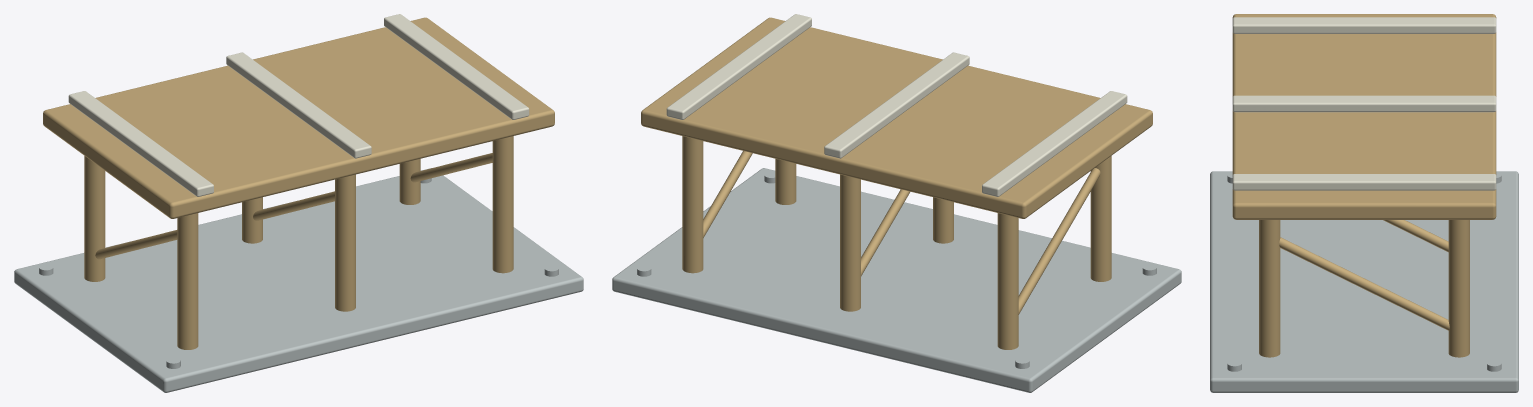
File: abandoned-tidal-model-testing-hall-pile-jetty-model-585b1f6a__32337.glb
3 renders of one model, left to right at view 1: azimuth 30°, elevation 25°; view 2: azimuth 150°, elevation 25°; view 3: azimuth 270°, elevation 25°, orthographic.
Parts seen in each view (by area): view 1: pile-jetty-model; view 2: pile-jetty-model; view 3: pile-jetty-model.
Boxes of the visible parts, x1,y1,x2,y2 form: pile-jetty-model: [14, 14, 583, 392]; pile-jetty-model: [612, 14, 1181, 392]; pile-jetty-model: [1210, 14, 1518, 392].
Size of the model in its own units: 1.2 by 0.51 by 0.7499.
